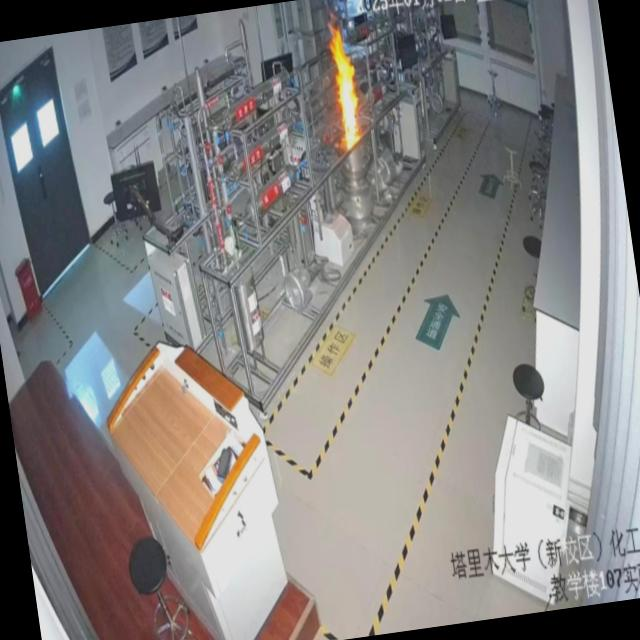fire: (321, 16, 388, 165)
